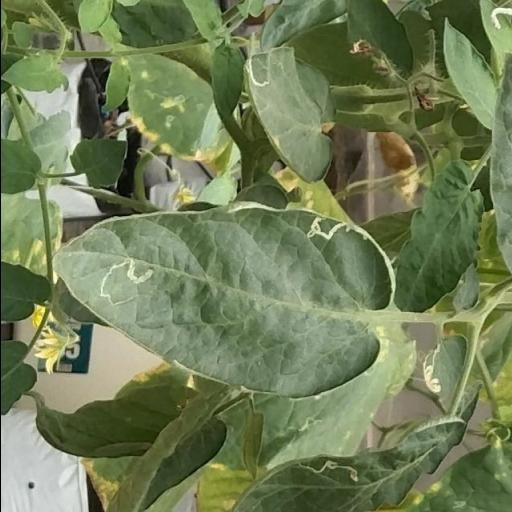disease_tomato: (46, 204, 392, 402), (420, 330, 474, 416)
